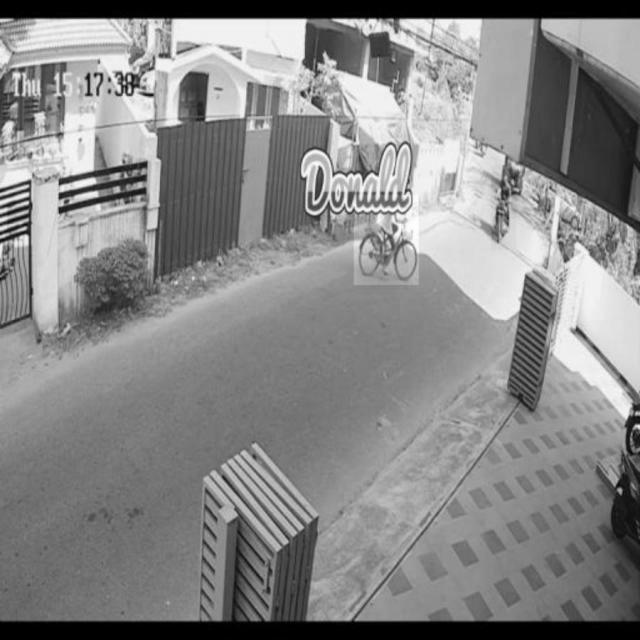vehicle: (354, 196, 418, 286), (492, 165, 517, 249)
